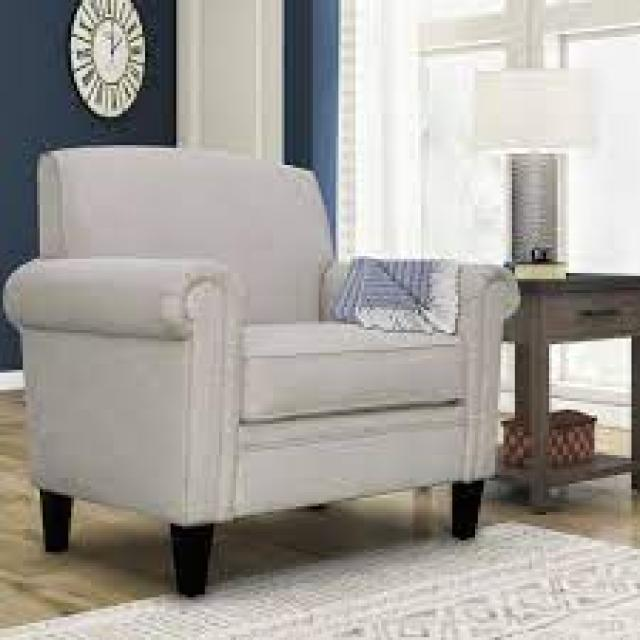chair: (0, 137, 538, 626)
